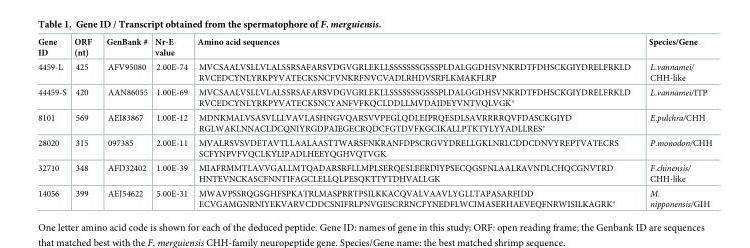table: (37, 37, 711, 209)
table column: (191, 37, 638, 209), (638, 37, 711, 209), (98, 37, 150, 209), (150, 37, 191, 209), (37, 37, 69, 209), (69, 37, 98, 209)
table column header: (37, 37, 711, 58)
table row: (37, 58, 711, 84), (37, 159, 711, 185), (37, 84, 711, 109), (37, 109, 711, 134), (37, 134, 711, 159), (37, 185, 711, 209), (37, 37, 711, 58)
